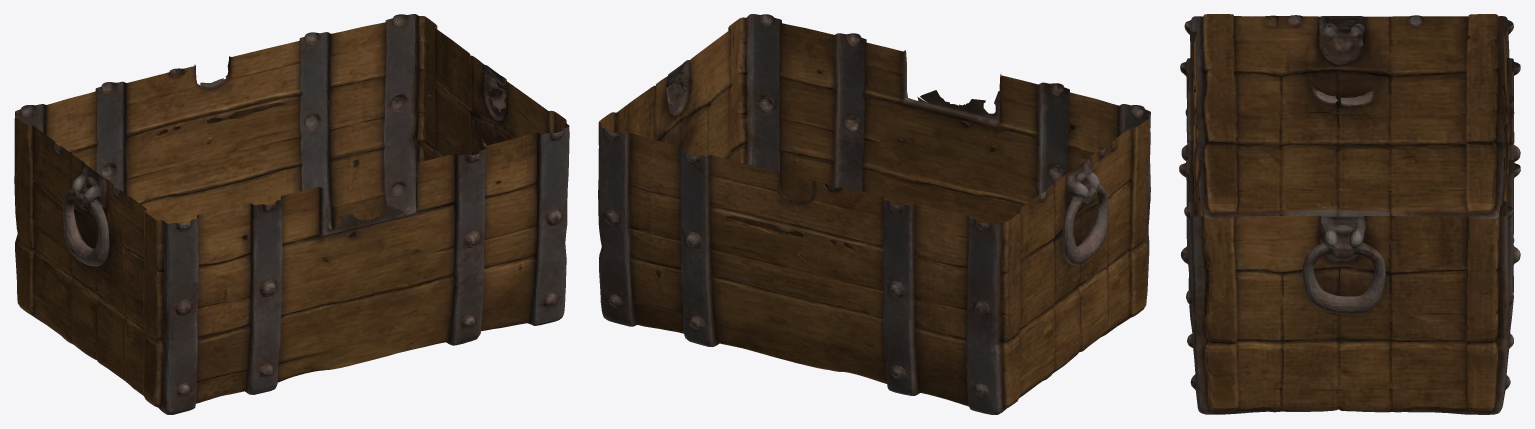
The picture shows the model from 3 angles, left to right: view 1: azimuth 30°, elevation 25°; view 2: azimuth 150°, elevation 25°; view 3: azimuth 270°, elevation 25°; orthographic projection. The views are drawn at different scales.
Visible parts, largest first — view 1: source_surface_0; view 2: source_surface_0; view 3: source_surface_0.
Boxes of the visible parts, x1,y1,x2,y2 form: source_surface_0: (14, 14, 569, 414); source_surface_0: (598, 14, 1150, 414); source_surface_0: (1179, 14, 1520, 414).
Size of the model in its own units: 0.6 by 0.263 by 0.4026.
Materials: 1 (1 with a texture image).
